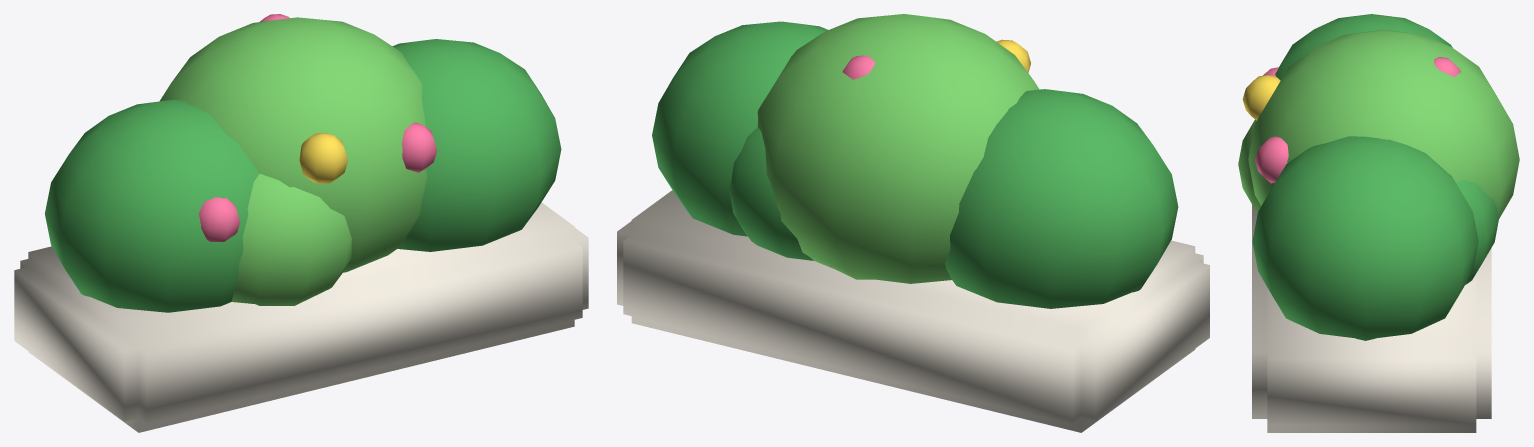
File: PlanterBush.fbx
3 renders of one model, left to right at view 1: azimuth 30°, elevation 25°; view 2: azimuth 150°, elevation 25°; view 3: azimuth 270°, elevation 25°, orthographic. The views are drawn at different scales.
Visible parts, largest first — view 1: PlanterBush; view 2: PlanterBush; view 3: PlanterBush.
Part boxes in pixels (x1=…): PlanterBush: x1=14, y1=14, x2=588, y2=432; PlanterBush: x1=617, y1=14, x2=1209, y2=432; PlanterBush: x1=1238, y1=14, x2=1519, y2=432.
Size of the model in its own units: 1.72 by 1.03 by 0.916.
